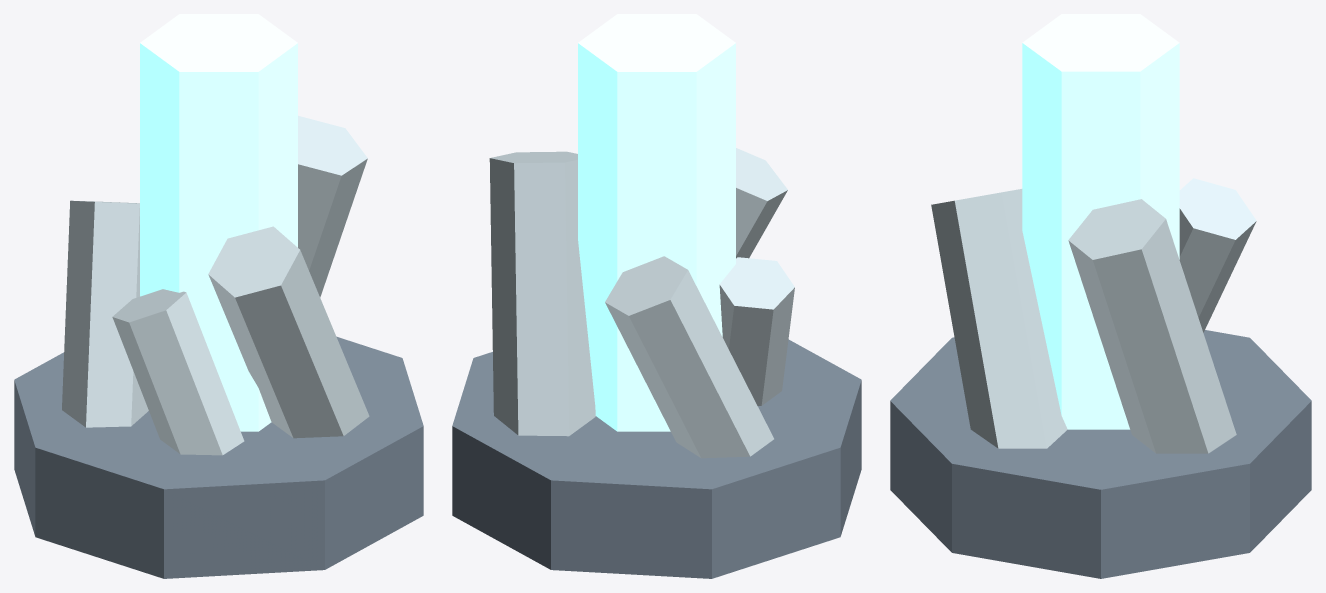
File: prop-cryo-crystal.glb
3 views of the same model, side by side, from view 1: azimuth 30°, elevation 25°; view 2: azimuth 150°, elevation 25°; view 3: azimuth 270°, elevation 25° (orthographic).
Parts seen in each view (by area): view 1: Cylinder, Cylinder.001, Ice_Cluster_2, Ice_Cluster_1, Ice_Cluster_3, Ice_Cluster_0; view 2: Cylinder, Cylinder.001, Ice_Cluster_0, Ice_Cluster_1, Ice_Cluster_3, Ice_Cluster_2; view 3: Cylinder, Cylinder.001, Ice_Cluster_0, Ice_Cluster_2, Ice_Cluster_1.
Boxes of the visible parts, box(x1,y1,x2,y2) form: Cylinder: box(14, 336, 423, 578); Cylinder.001: box(140, 14, 297, 431); Ice_Cluster_2: box(208, 226, 369, 438); Ice_Cluster_1: box(62, 200, 148, 427); Ice_Cluster_3: box(112, 289, 244, 455); Ice_Cluster_0: box(298, 115, 367, 297); Cylinder: box(452, 339, 861, 578); Cylinder.001: box(578, 14, 735, 431); Ice_Cluster_0: box(489, 151, 595, 436); Ice_Cluster_1: box(605, 256, 773, 458); Ice_Cluster_3: box(719, 257, 794, 405); Ice_Cluster_2: box(736, 148, 787, 258); Cylinder: box(890, 330, 1311, 578); Cylinder.001: box(1022, 14, 1179, 429); Ice_Cluster_0: box(1068, 199, 1236, 453); Ice_Cluster_2: box(931, 189, 1067, 448); Ice_Cluster_1: box(1179, 178, 1256, 332).
Bounding box in the file's own units: 1.5 × 1.75 × 1.5.
